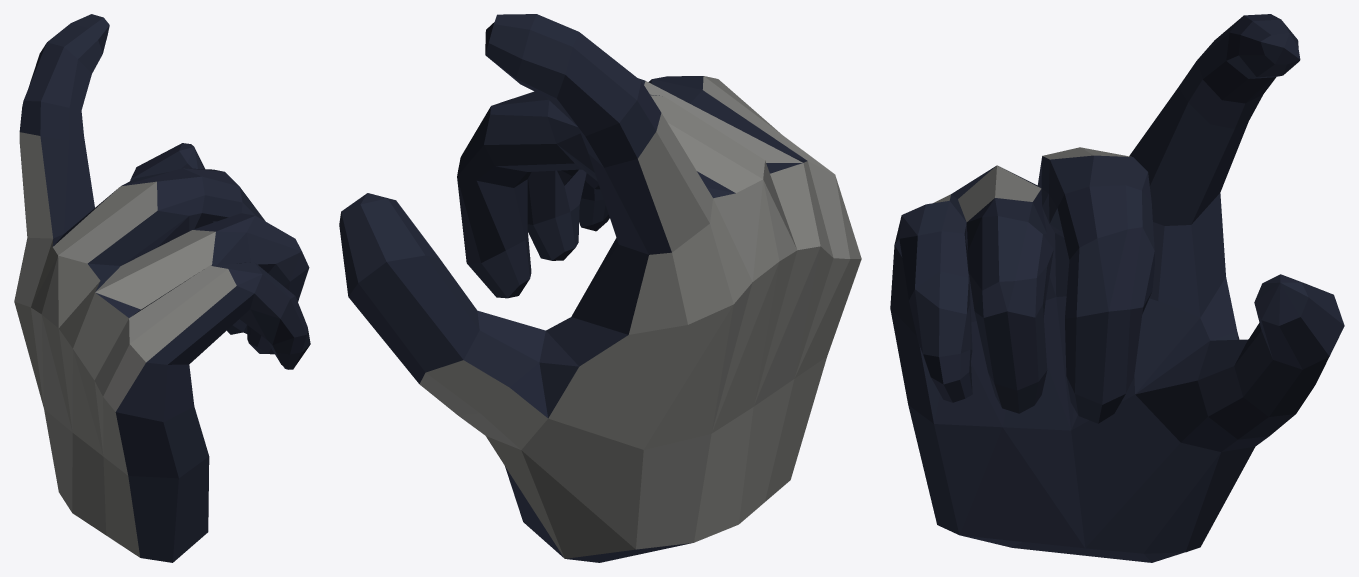
The model's file is Hand_Closed_Shotgun.fbx.
3 renders of one model, left to right at view 1: azimuth 30°, elevation 25°; view 2: azimuth 150°, elevation 25°; view 3: azimuth 270°, elevation 25°, orthographic. The views are drawn at different scales.
Parts seen in each view (by area): view 1: Shotgun; view 2: Shotgun; view 3: Shotgun.
Part boxes in pixels (left/top/right/bottom): Shotgun: left=14, top=14, right=310, bottom=562; Shotgun: left=339, top=14, right=861, bottom=562; Shotgun: left=890, top=14, right=1344, bottom=562.
Size of the model in its own units: 167 by 289 by 217.
